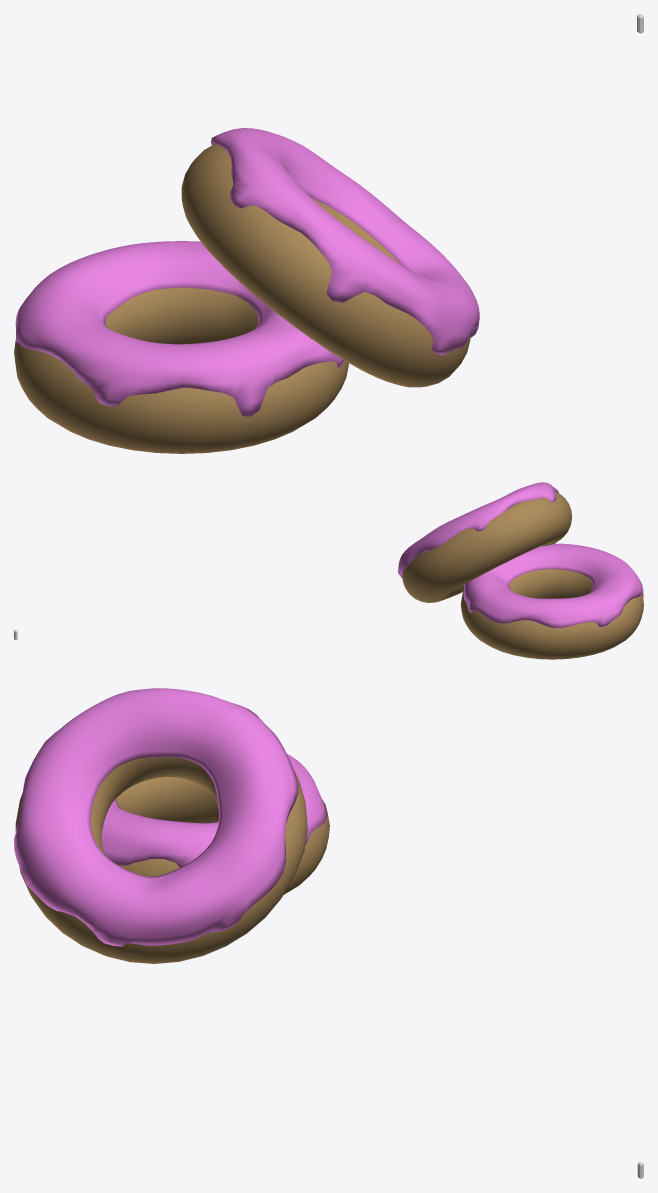
3 views of the same model, one above another, from view 1: azimuth 30°, elevation 25°; view 2: azimuth 150°, elevation 25°; view 3: azimuth 270°, elevation 25° (orthographic). The views are drawn at different scales.
Visible parts, largest first — view 1: Icing, Donut, Icing.001, Donut.001; view 2: Icing, Donut.001, Donut, Icing.001; view 3: Icing.001, Donut.001, Icing, Donut.
Part boxes in pixels (<box>): Icing: <box>15,241,344,416</box>; Donut: <box>14,287,348,453</box>; Icing.001: <box>211,128,479,355</box>; Donut.001: <box>181,143,470,387</box>; Icing: <box>463,543,643,627</box>; Donut.001: <box>402,492,571,602</box>; Donut: <box>460,569,643,659</box>; Icing.001: <box>398,482,558,578</box>; Icing.001: <box>14,688,298,946</box>; Donut.001: <box>15,757,307,963</box>; Icing: <box>101,754,327,867</box>; Donut: <box>116,777,329,894</box>.
Size of what is drawn, in the model's own units: 90.11 by 23.43 by 64.7.
